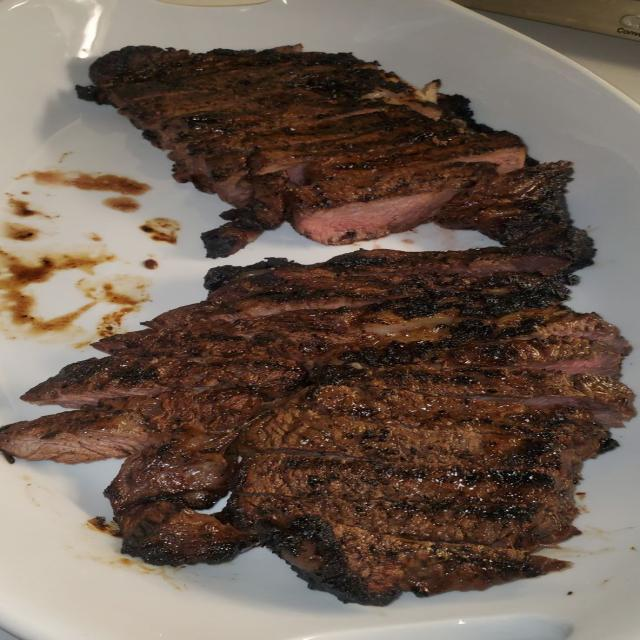beef steak: (77, 45, 527, 257), (23, 250, 626, 408), (224, 376, 617, 549), (94, 290, 444, 369), (264, 517, 570, 605), (0, 389, 263, 464), (321, 364, 634, 427), (339, 311, 630, 378), (225, 494, 573, 550), (286, 158, 493, 244), (435, 160, 595, 270), (236, 455, 570, 504), (21, 354, 306, 408), (104, 425, 238, 516), (116, 500, 254, 566), (325, 248, 570, 276), (490, 290, 570, 328), (205, 268, 223, 290)
